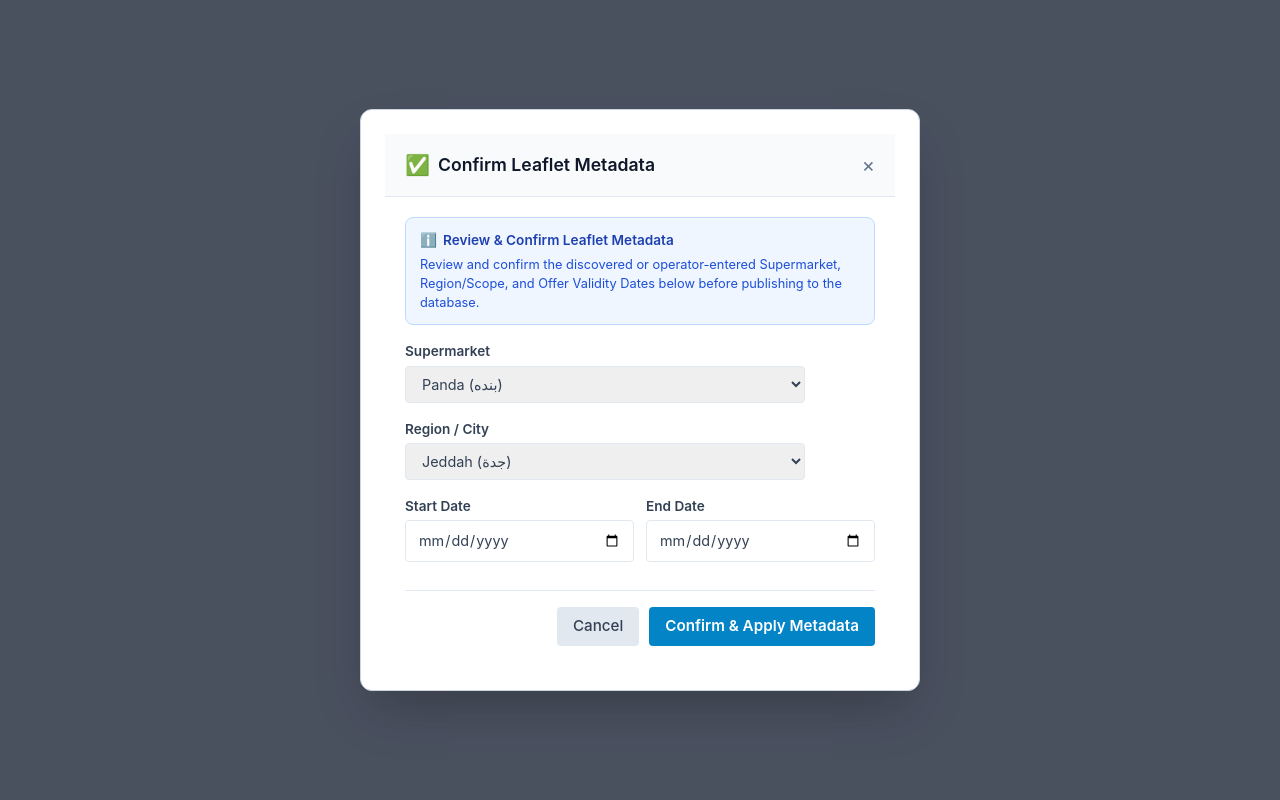
Scenario: MetadataCompletionModal (WIFRAN-07J Step 2 Import Fallback) › validates date order (end date must be >= start date)
Expected: the dropdown with test id "modal-supermarket-select" is shown, [405, 366, 805, 403]
End date earlier than start date
Step 1. Type "2026-11-10" into the date field with test id "modal-valid-from-input" → point(520, 541), box [405, 520, 634, 562]
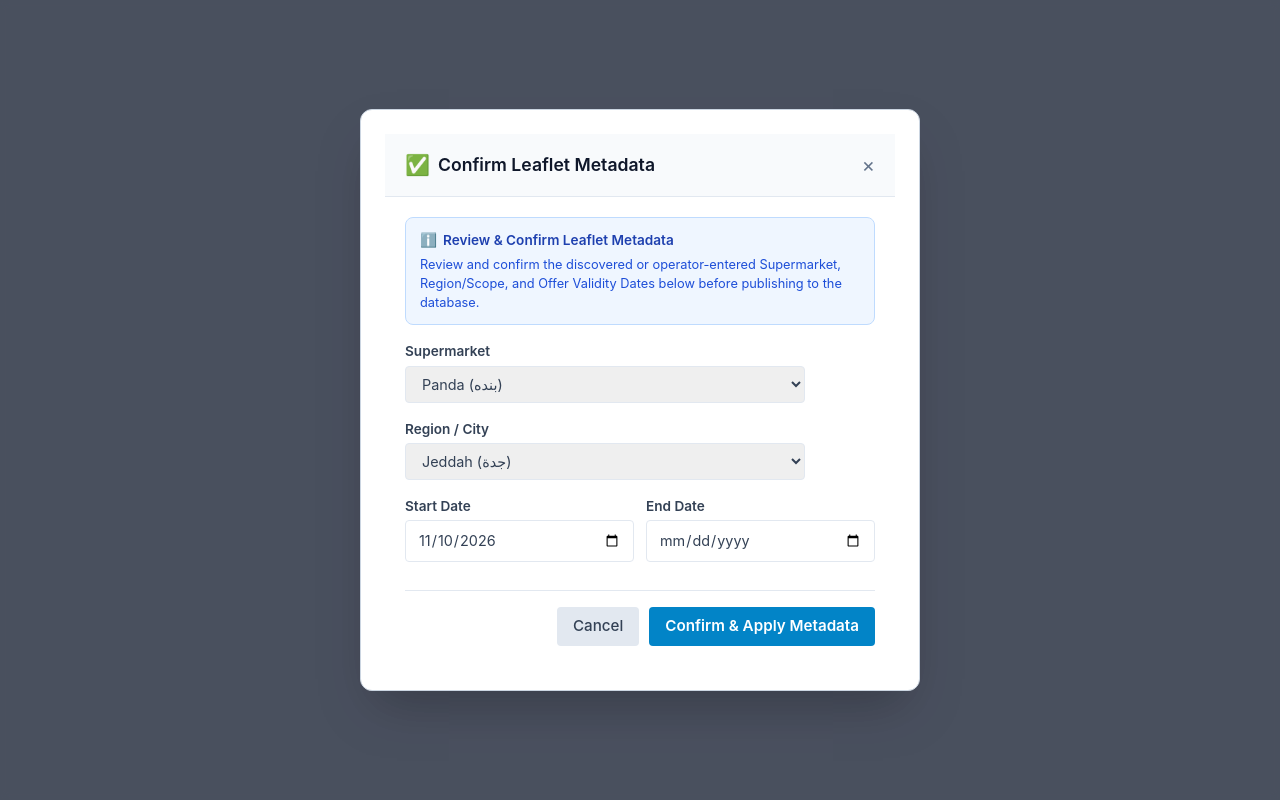
Step 2. Type "2026-11-05" into the date field with test id "modal-valid-to-input" → point(760, 541), box [646, 520, 875, 562]
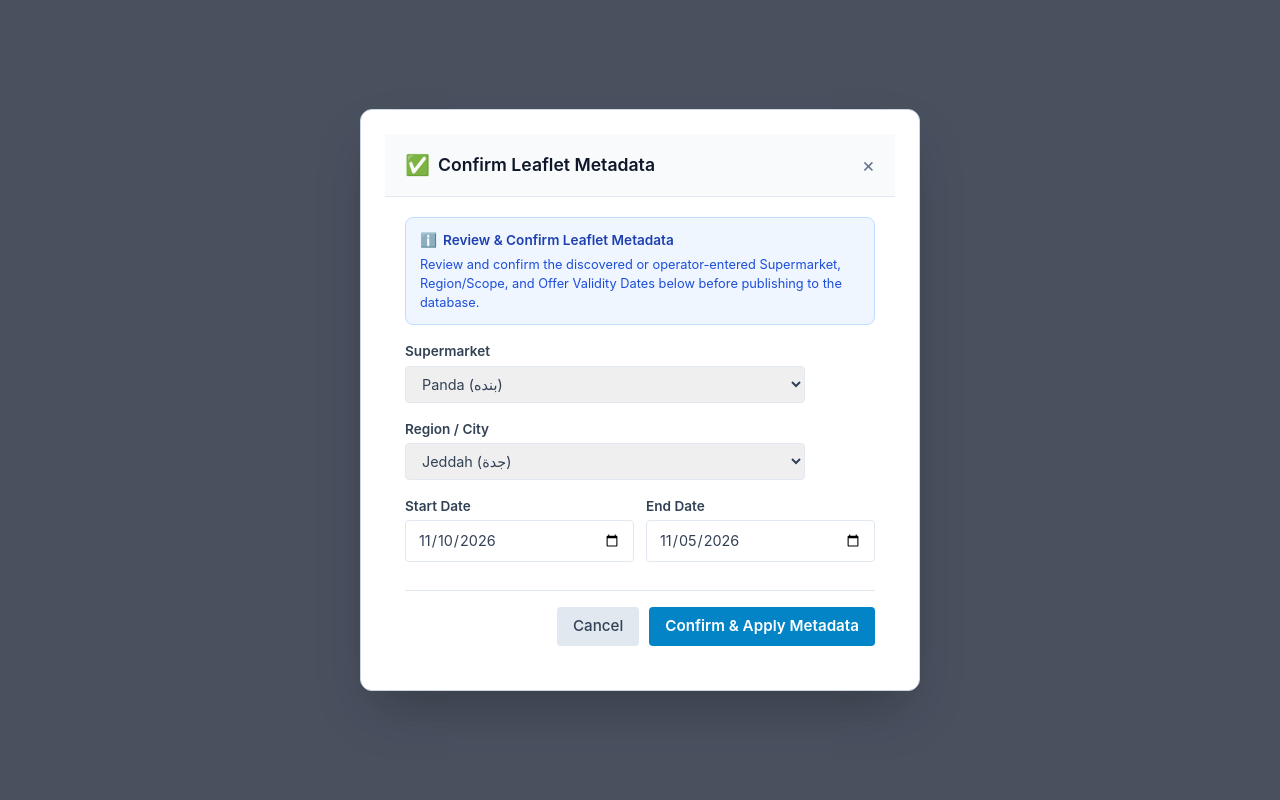
Step 3. Click the button with test id "modal-save-metadata-btn" → point(762, 626), box [649, 607, 875, 646]
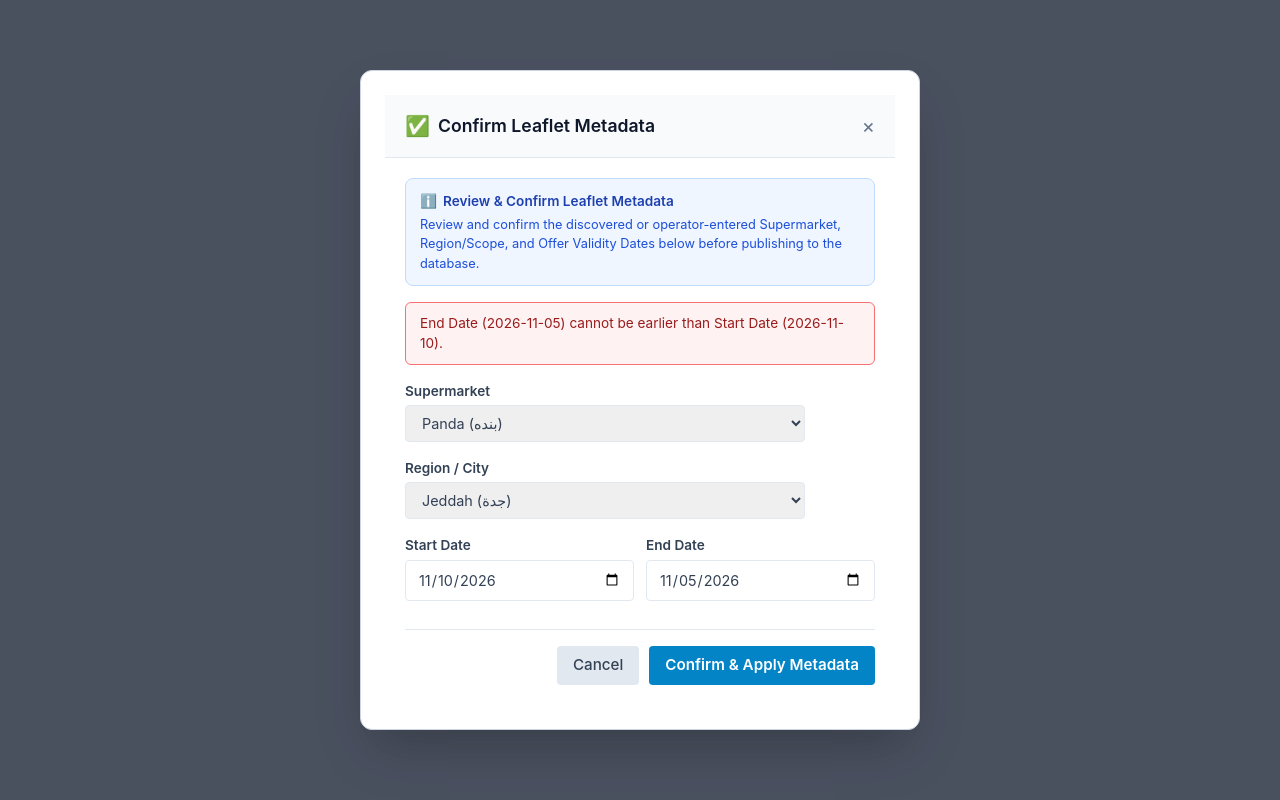
Result: the text "End Date (2026-11-05) cannot be earlier than Start Date (2026-11-10)." is shown at [405, 302, 875, 365]
